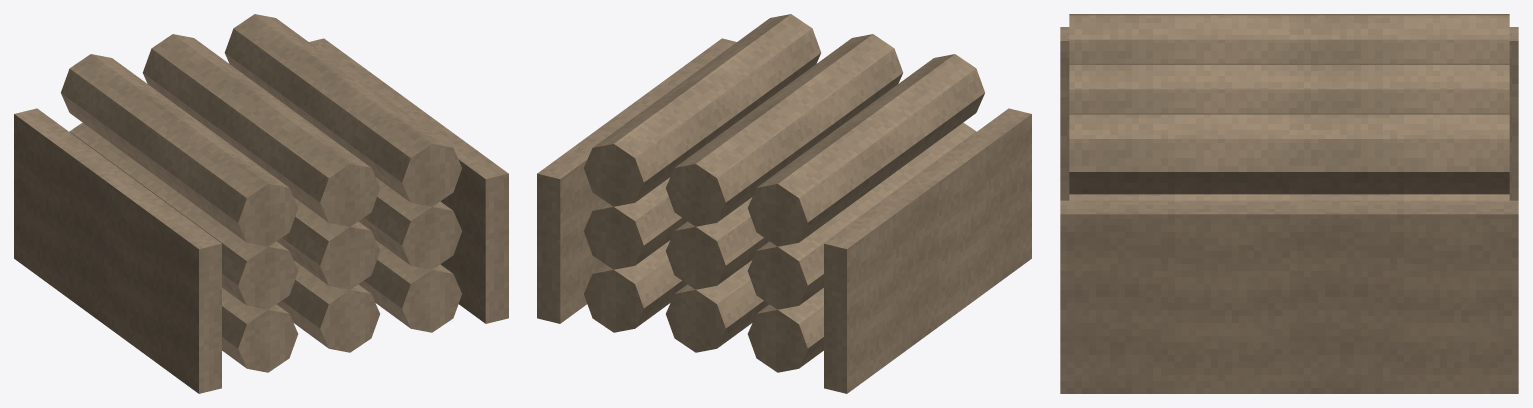
Rendered from level_blockout_log_stack.glb.
3 views of the same model, side by side, from view 1: azimuth 30°, elevation 25°; view 2: azimuth 150°, elevation 25°; view 3: azimuth 270°, elevation 25° (orthographic). The views are drawn at different scales.
Visible parts, largest first — view 1: level_blockout_log_stack; view 2: level_blockout_log_stack; view 3: level_blockout_log_stack.
Part boxes in pixels (x1,y1,x2,y2): level_blockout_log_stack: [14, 14, 508, 393]; level_blockout_log_stack: [537, 14, 1031, 393]; level_blockout_log_stack: [1060, 14, 1518, 393].
Size of the model in its own units: 2.42 by 1.41 by 2.5.
1 material, 1 textured.
